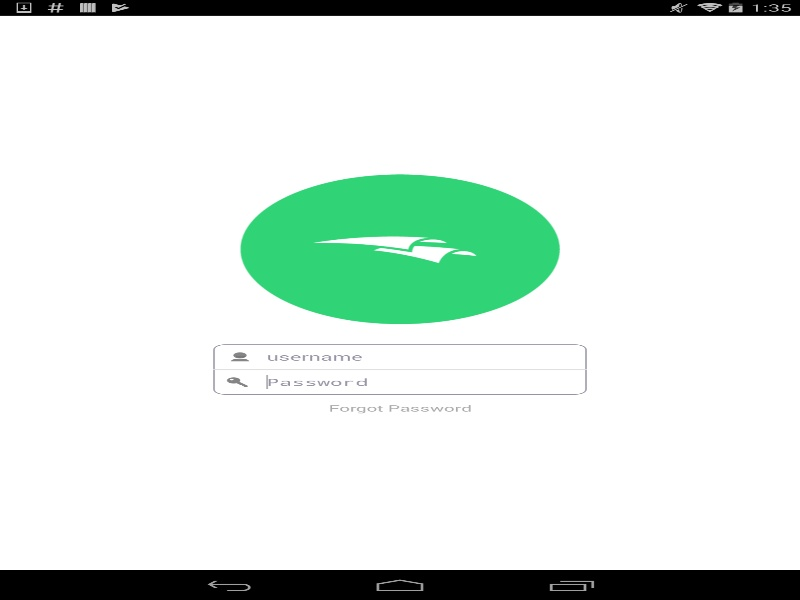Input: (256, 344, 586, 369), (256, 369, 586, 394)
